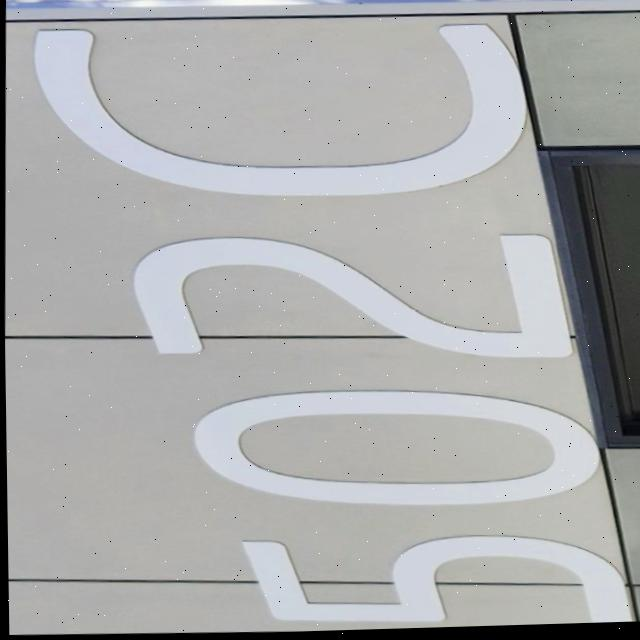character: (25, 7, 535, 211), (126, 214, 580, 372), (184, 374, 604, 517), (232, 520, 639, 633)
